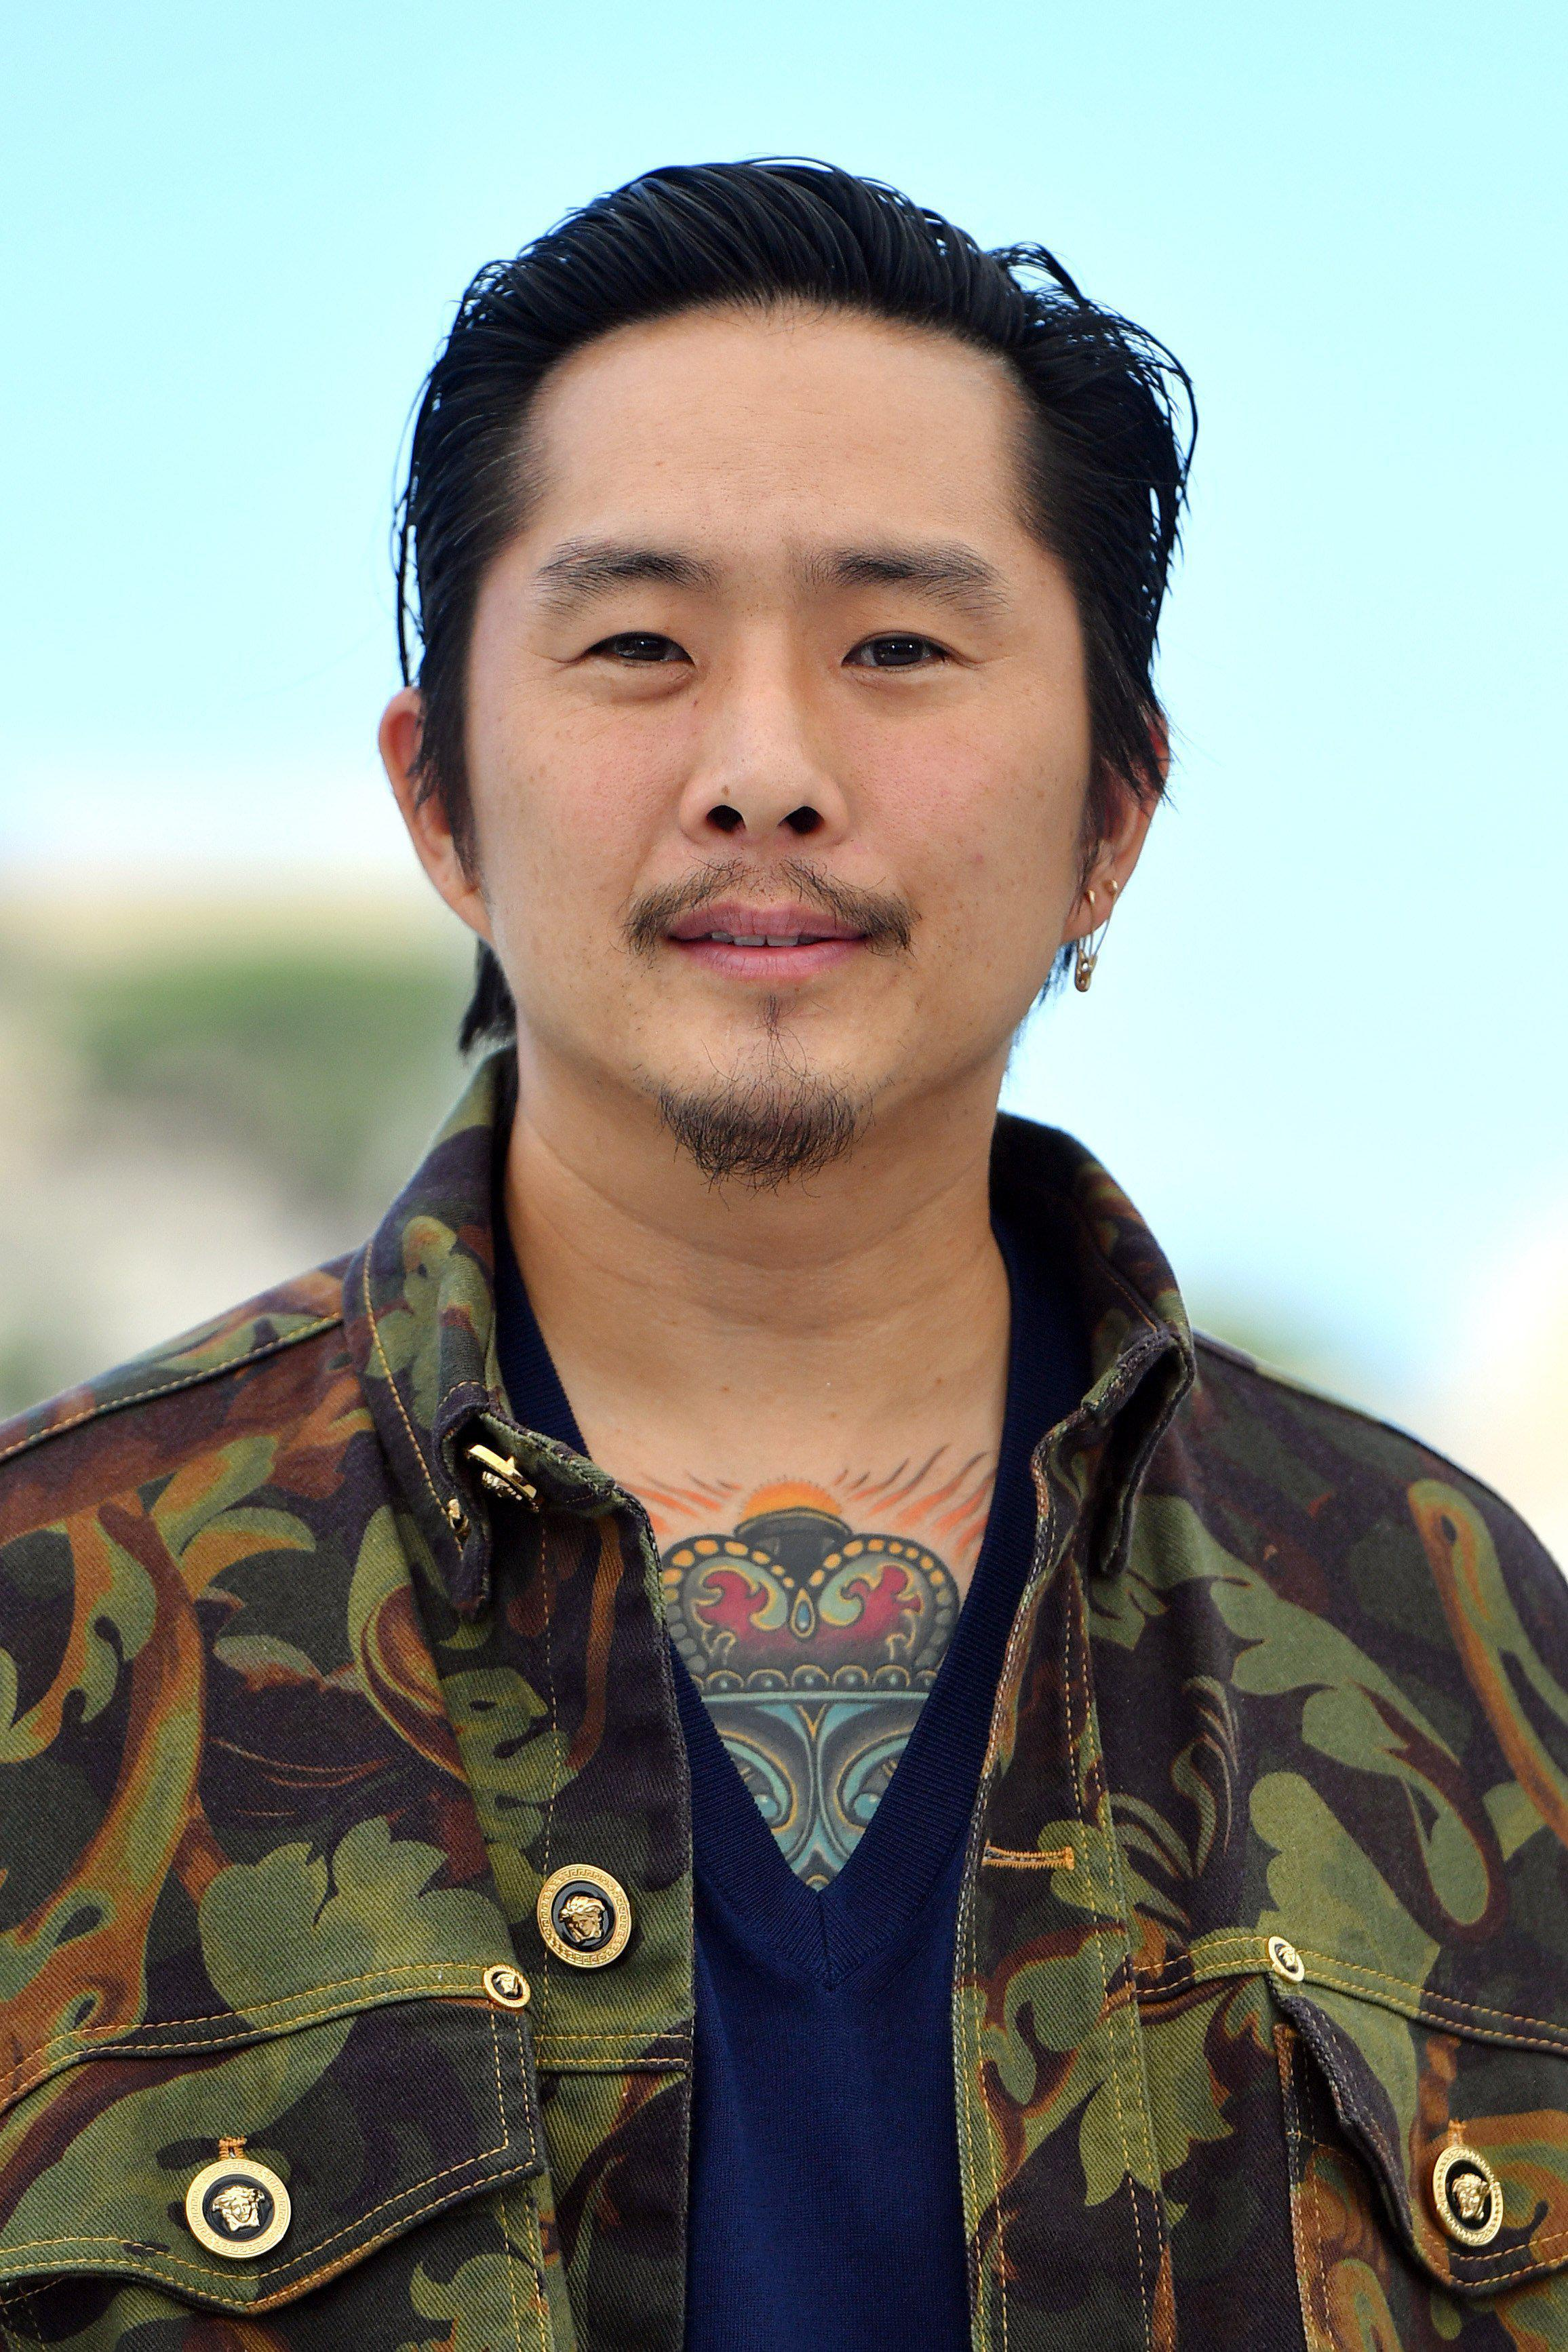Sober: (504, 360, 1057, 1136)
